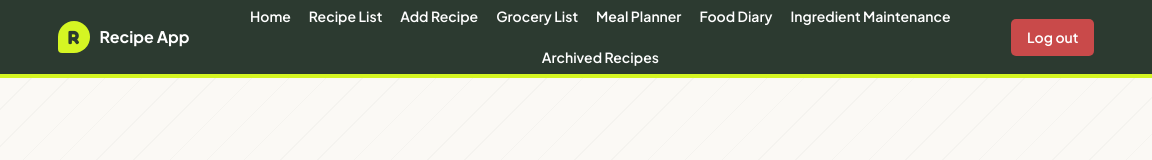
it: keeps the user on the current page and permits retry when logout fails
The image size is (1152, 160).
Click the button "Log out".
click(1053, 37)  # box [1011,18,1094,56]
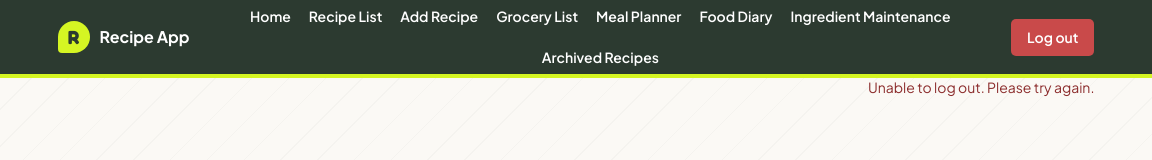
Now the message reads "Unable to log out. Please try again.", box [868,78,1094,96]
Click the button "Log out".
click(1053, 37)  # box [1011,18,1094,56]
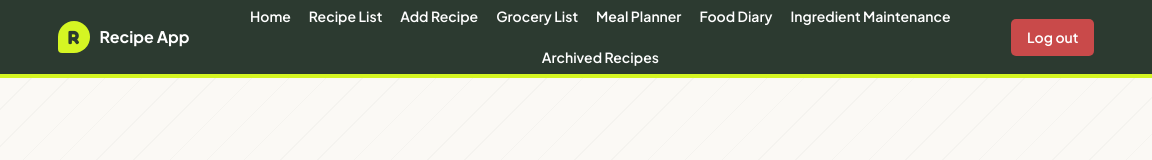
Now the message "Unable to log out. Please try again." is gone
